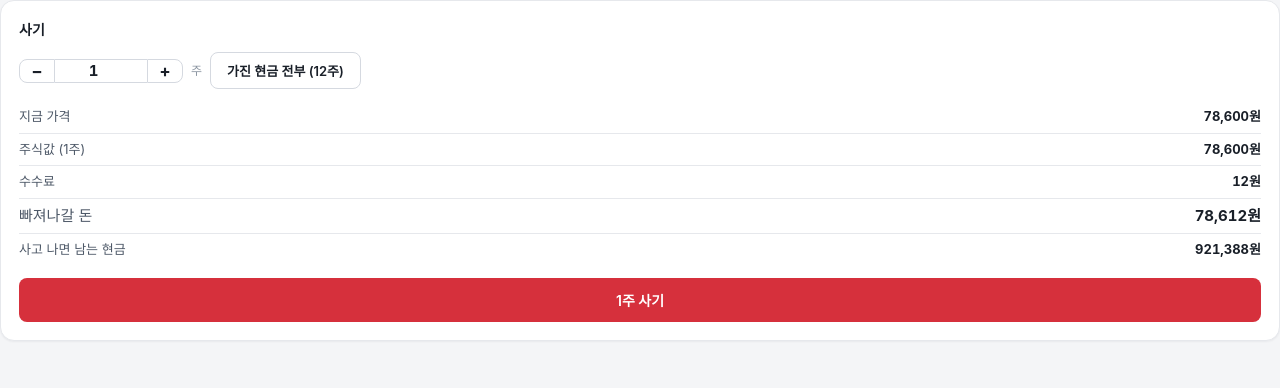
it: BuyPanel 잔고 초과(SPEC §9.2) › 수량 0 이면 버튼이 잠긴다
The width and height of the screenshot is (1280, 388).
Step 1. Replace the text in the number field named "살 수량" with "0" → (101, 70), box x1=55 y1=58 x2=147 y2=82
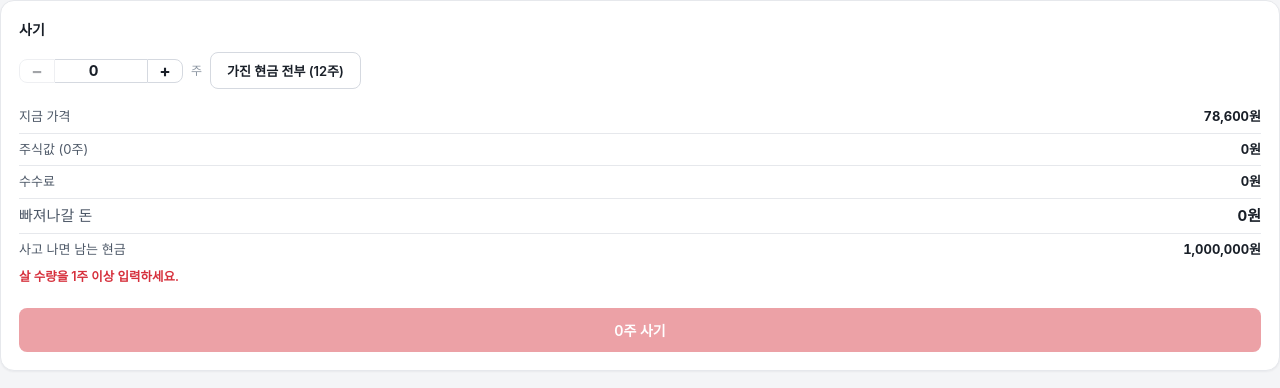
Check: the button "0주 사기" is disabled, box x1=19 y1=308 x2=1261 y2=352
